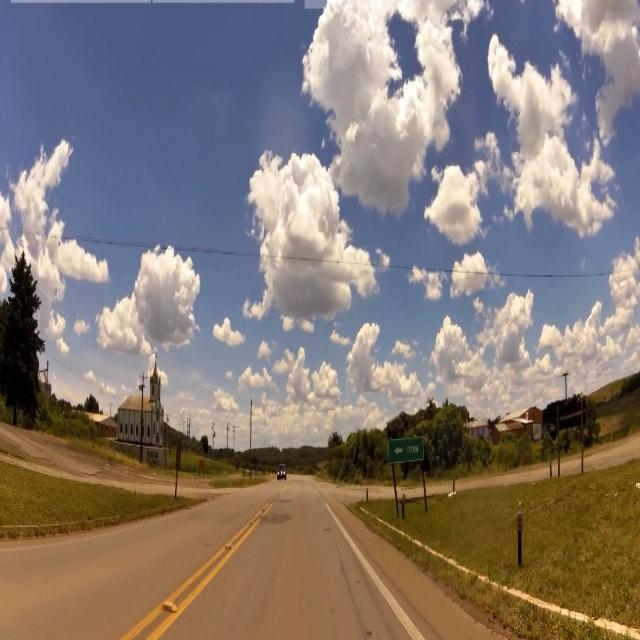I-4: (388, 437, 422, 463)
